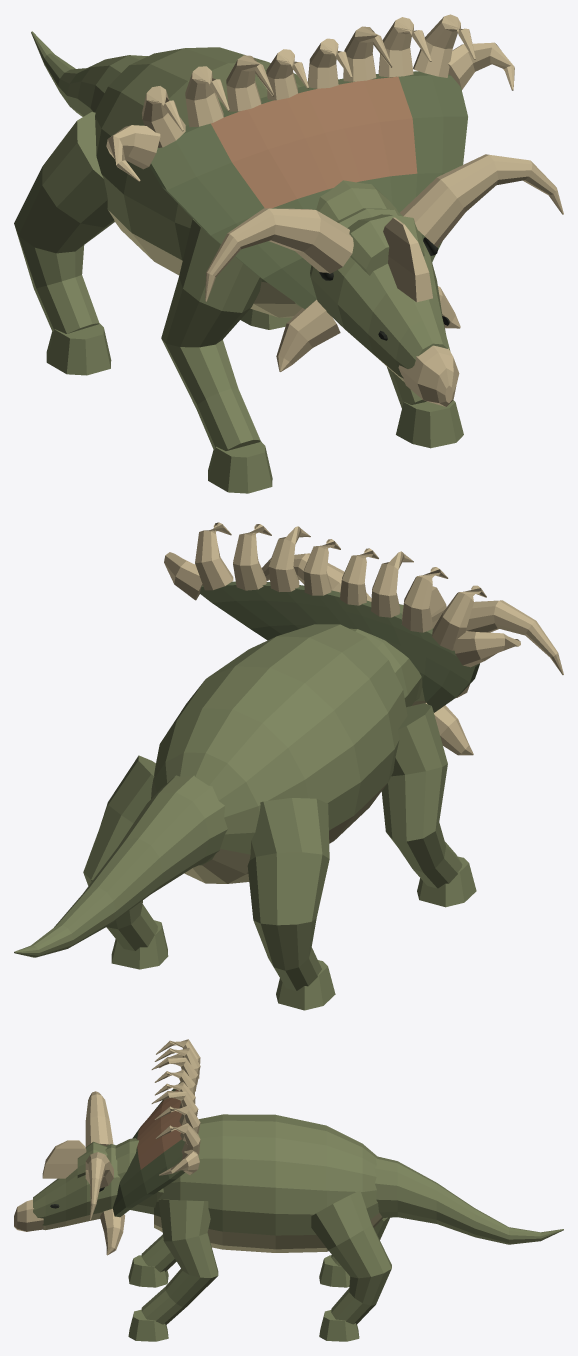
The picture shows the model from 3 angles, top to bottom: view 1: azimuth 30°, elevation 25°; view 2: azimuth 150°, elevation 25°; view 3: azimuth 270°, elevation 25°; orthographic projection. The views are drawn at different scales.
Parts seen in each view (by area): view 1: export-body, export-horn, export-accent, export-frill, export-underside; view 2: export-body, export-horn, export-frill, export-underside; view 3: export-body, export-horn, export-underside, export-frill, export-accent.
Part boxes in pixels (x1,y1,x2,y2): export-body: (14, 31, 463, 493); export-horn: (106, 14, 563, 406); export-accent: (211, 76, 417, 208); export-frill: (149, 71, 467, 308); export-underside: (108, 210, 404, 381); export-body: (14, 604, 476, 1010); export-horn: (164, 522, 563, 755); export-frill: (199, 581, 479, 712); export-underside: (184, 700, 426, 883); export-body: (33, 1114, 563, 1341); export-horn: (14, 1039, 200, 1255); export-underside: (42, 1212, 382, 1252); export-frill: (112, 1082, 184, 1217); export-accent: (137, 1089, 181, 1169).
Bounding box in the file's own units: 2.57 × 2.43 × 5.19.
